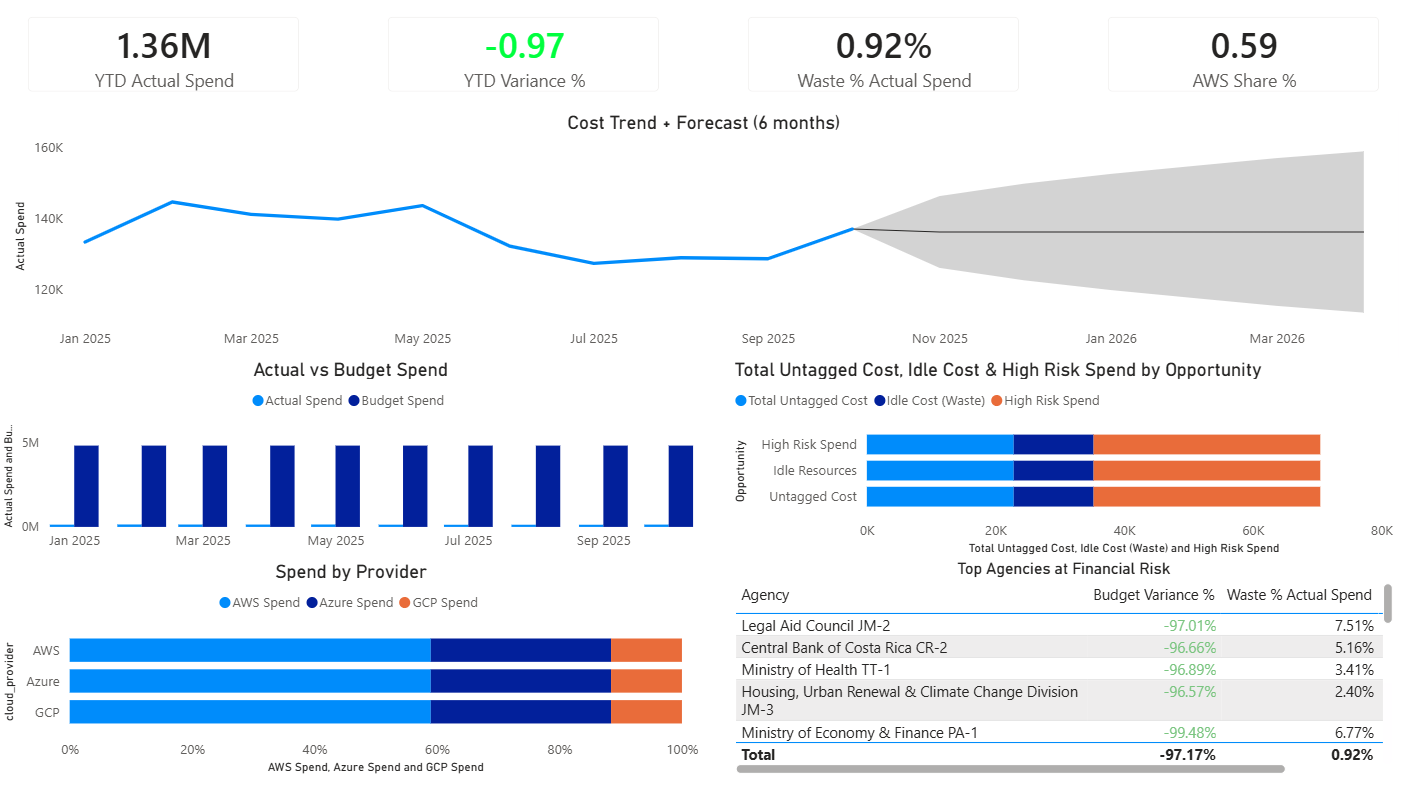

This screenshot's page, from the dashboard's own definition file:
{"tool":"powerbi","page":{"name":"FinOps – Executive Summary","canvas":[1280,720],"ordinal":8},"visuals":[{"type":"cardVisual","fields":{"Data":[" FinOps Measures.YTD Actual Spend"]},"box":[10,0,280.2,102.5],"z":0},{"type":"cardVisual","fields":{"Data":[" FinOps Measures.YTD Variance %"]},"box":[336.4,0,280.2,102.5],"z":1000},{"type":"cardVisual","fields":{"Data":[" FinOps Measures.Waste % Actual Spend"]},"box":[662.9,0,280.2,102.5],"z":2000},{"type":"cardVisual","fields":{"Data":[" FinOps Measures.AWS Share %"]},"box":[989.3,0,280.2,102.5],"z":3000},{"type":"lineChart","title":"Cost Trend + Forecast (6 months)","fields":{"Category":["dim_date.date_key_fixed"],"Y":[" FinOps Measures.Actual Spend"]},"box":[10,102.5,1259.5,224],"z":4000},{"type":"clusteredColumnChart","title":"Actual vs Budget Spend","fields":{"Category":["dim_date.date_key_fixed"],"Y":[" FinOps Measures.Actual Spend"," FinOps Measures.Budget Spend"]},"box":[0,326.4,639.3,183.2],"z":5000},{"type":"barChart","title":"Total Untagged Cost, Idle Cost & High Risk Spend by Opportunity","fields":{"Y":[" FinOps Measures.Total Untagged Cost"," FinOps Measures.Idle Cost (Waste)"," FinOps Measures.High Risk Spend"],"Category":["Table.Opportunity"]},"box":[662.9,326.4,606.6,183.2],"z":6000},{"type":"hundredPercentStackedBarChart","title":"Spend by Provider","fields":{"Category":["fact_provider_finance.cloud_provider"],"Y":[" FinOps Measures.AWS Spend"," FinOps Measures.Azure Spend"," FinOps Measures.GCP Spend"]},"box":[0,509.6,640.2,198.6],"z":7000},{"type":"tableEx","title":"Top Agencies at Financial Risk","fields":{"Values":["dim_agency_clean.Agency"," FinOps Measures.Budget Variance %"," FinOps Measures.Waste % Actual Spend"," FinOps Measures.High Risk Spend"]},"box":[663,510,607,199],"z":8000}]}

Visuals, with their boxes in screenshot pixels (x1, y1, x2, y2), scaled from the page's 1280x720 canvas onto the 1410x790 screenshot:
cardVisual -  FinOps Measures.YTD Actual Spend: Rect(11, 0, 320, 112)
cardVisual -  FinOps Measures.YTD Variance %: Rect(371, 0, 679, 112)
cardVisual -  FinOps Measures.Waste % Actual Spend: Rect(730, 0, 1039, 112)
cardVisual -  FinOps Measures.AWS Share %: Rect(1090, 0, 1398, 112)
"Cost Trend + Forecast (6 months)" lineChart: Rect(11, 112, 1398, 358)
"Actual vs Budget Spend" clusteredColumnChart: Rect(0, 358, 704, 559)
"Total Untagged Cost, Idle Cost & High Risk Spend by Opportunity" barChart: Rect(730, 358, 1398, 559)
"Spend by Provider" hundredPercentStackedBarChart: Rect(0, 559, 705, 777)
"Top Agencies at Financial Risk" tableEx: Rect(730, 560, 1399, 778)
